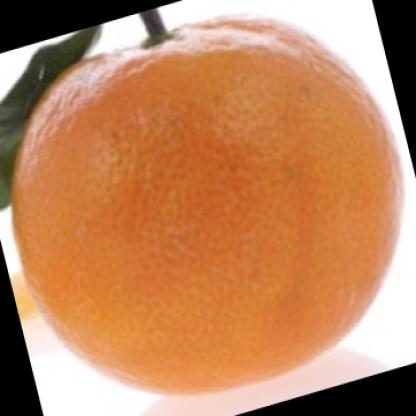fresh: (14, 19, 401, 398)
